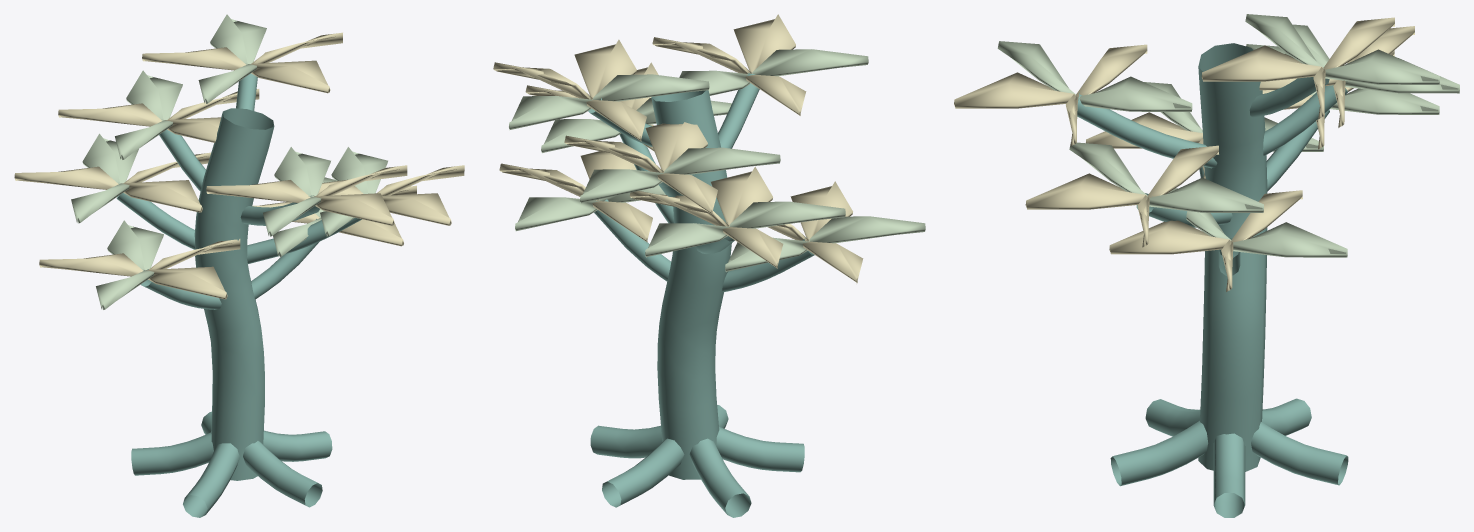
File: bio_canopy_tree_06_far.glb
The picture shows the model from 3 angles, left to right: view 1: azimuth 30°, elevation 25°; view 2: azimuth 150°, elevation 25°; view 3: azimuth 270°, elevation 25°; orthographic projection. The views are drawn at different scales.
Parts seen in each view (by area): view 1: Buttressed trunk, Broad canopy leaf.010, Broad canopy leaf.020, Broad canopy leaf.015, Broad canopy leaf.005, Broad canopy leaf.030, Broad canopy leaf.025, Broad canopy leaf.016, Broad canopy leaf.011, Broad canopy leaf.031, Broad canopy leaf.021, Broad canopy leaf.006 (+3 smaller); view 2: Buttressed trunk, Broad canopy leaf.010, Broad canopy leaf.015, Broad canopy leaf.005, Broad canopy leaf.030, Broad canopy leaf.031, Broad canopy leaf.006, Broad canopy leaf.016, Broad canopy leaf.021, Broad canopy leaf.011, Broad canopy leaf, Broad canopy leaf.020 (+3 smaller); view 3: Buttressed trunk, Broad canopy leaf.015, Broad canopy leaf.025, Broad canopy leaf.010, Broad canopy leaf, Broad canopy leaf.016, Broad canopy leaf.026, Broad canopy leaf.011, Broad canopy leaf.001, Broad canopy leaf.006, Broad canopy leaf.031, Broad canopy leaf.030 (+2 smaller).
Part boxes in pixels (x1=…): Buttressed trunk: x1=116, y1=73, x2=361, y2=517; Broad canopy leaf.010: x1=206, y1=165, x2=407, y2=225; Broad canopy leaf.020: x1=39, y1=239, x2=240, y2=299; Broad canopy leaf.015: x1=142, y1=32, x2=342, y2=93; Broad canopy leaf.005: x1=14, y1=152, x2=210, y2=212; Broad canopy leaf.030: x1=58, y1=89, x2=259, y2=142; Broad canopy leaf.025: x1=318, y1=165, x2=464, y2=225; Broad canopy leaf.016: x1=198, y1=14, x2=266, y2=103; Broad canopy leaf.011: x1=263, y1=147, x2=330, y2=236; Broad canopy leaf.031: x1=115, y1=70, x2=182, y2=159; Broad canopy leaf.021: x1=96, y1=220, x2=163, y2=309; Broad canopy leaf.006: x1=71, y1=133, x2=138, y2=223; Buttressed trunk: x1=588, y1=73, x2=814, y2=517; Broad canopy leaf.010: x1=652, y1=14, x2=806, y2=115; Broad canopy leaf.015: x1=493, y1=39, x2=646, y2=141; Broad canopy leaf.005: x1=629, y1=166, x2=783, y2=268; Broad canopy leaf.030: x1=564, y1=122, x2=717, y2=214; Broad canopy leaf.031: x1=580, y1=147, x2=780, y2=203; Broad canopy leaf.006: x1=645, y1=201, x2=845, y2=257; Broad canopy leaf.016: x1=509, y1=74, x2=709, y2=130; Broad canopy leaf.021: x1=725, y1=216, x2=925, y2=271; Broad canopy leaf.011: x1=679, y1=49, x2=868, y2=95; Broad canopy leaf: x1=499, y1=151, x2=652, y2=242; Broad canopy leaf.020: x1=768, y1=181, x2=863, y2=283; Buttressed trunk: x1=1077, y1=43, x2=1348, y2=517; Broad canopy leaf.015: x1=1201, y1=17, x2=1394, y2=119; Broad canopy leaf.025: x1=1025, y1=145, x2=1218, y2=247; Broad canopy leaf.010: x1=954, y1=44, x2=1147, y2=146; Broad canopy leaf: x1=1109, y1=190, x2=1302, y2=291; Broad canopy leaf.016: x1=1245, y1=14, x2=1439, y2=84; Broad canopy leaf.026: x1=1069, y1=142, x2=1263, y2=212; Broad canopy leaf.011: x1=997, y1=41, x2=1192, y2=111; Broad canopy leaf.001: x1=1169, y1=188, x2=1347, y2=257; Broad canopy leaf.006: x1=1246, y1=44, x2=1439, y2=114; Broad canopy leaf.031: x1=1293, y1=24, x2=1459, y2=93; Broad canopy leaf.030: x1=1259, y1=26, x2=1414, y2=127.
Size of the model in its own units: 2.97 by 2.99 by 3.05.
